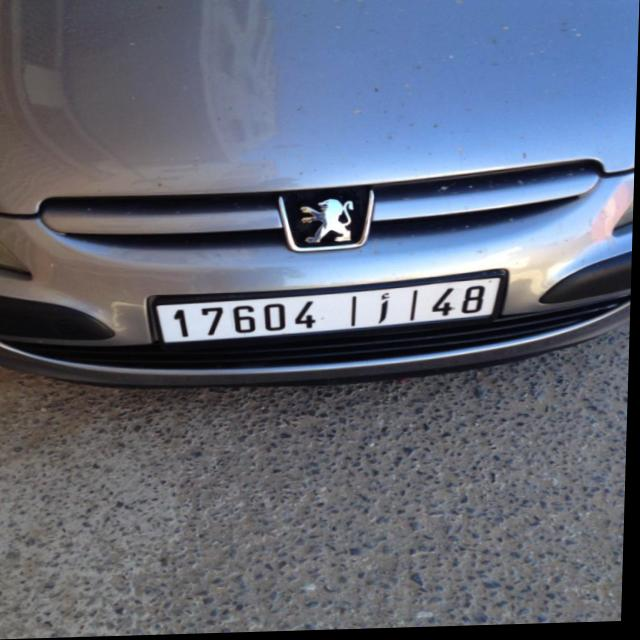License-Plate: (158, 280, 503, 345)
